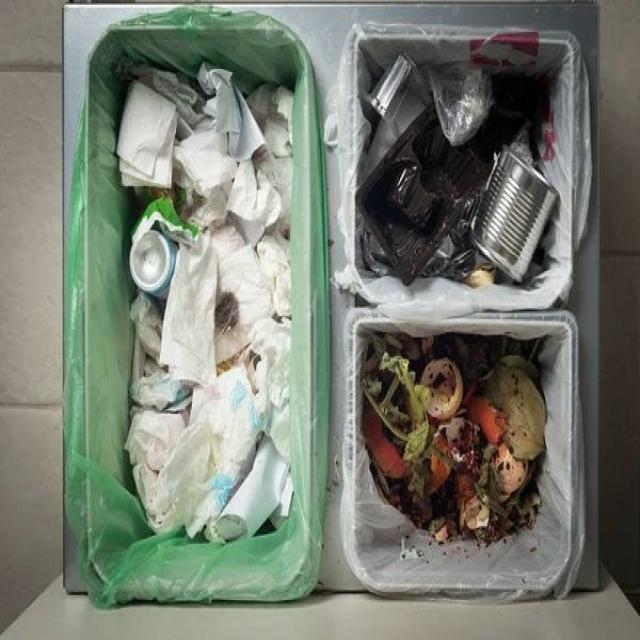Garbage: (116, 60, 294, 540), (349, 331, 550, 570)
Metal: (471, 147, 558, 281), (130, 229, 176, 294)
Plastic: (356, 75, 538, 285)
contaminated_waste: (116, 62, 294, 539), (355, 68, 562, 285), (365, 55, 432, 178)
